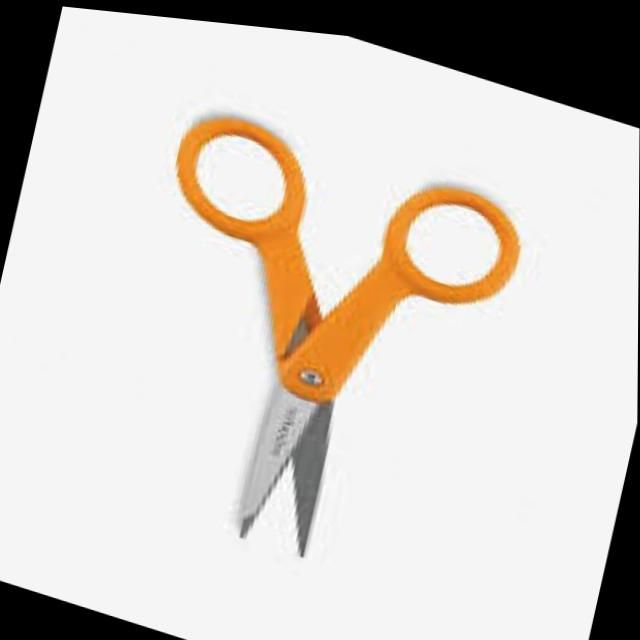scissor: (95, 84, 531, 600)
